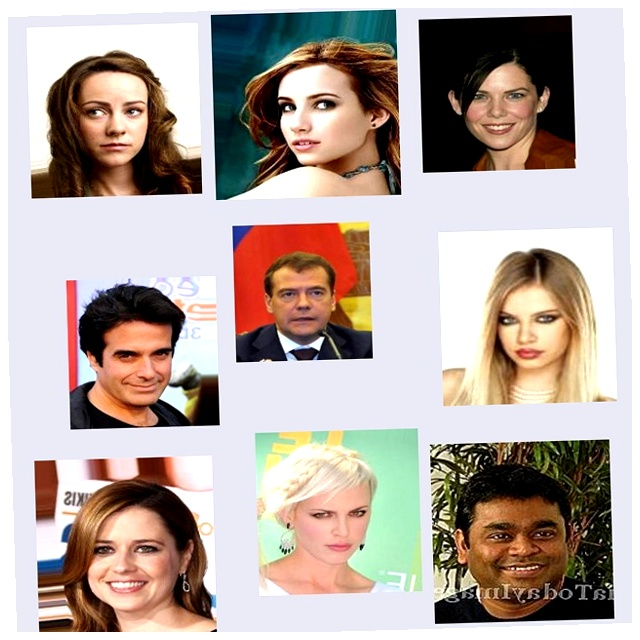celeb_10002: (438, 240, 617, 418)
celeb_2336: (65, 266, 218, 419)
celeb_2619: (234, 221, 374, 361)
celeb_2970: (223, 9, 414, 200)
celeb_4422: (39, 12, 215, 187)
celeb_4428: (22, 444, 204, 627)
celeb_5695: (431, 26, 589, 183)
celeb_7: (417, 451, 602, 635)
celeb_797: (244, 429, 411, 597)
